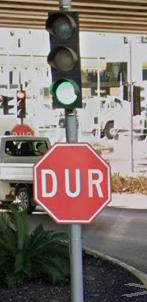greenlight: (45, 9, 84, 111)
stop: (33, 142, 112, 225)
